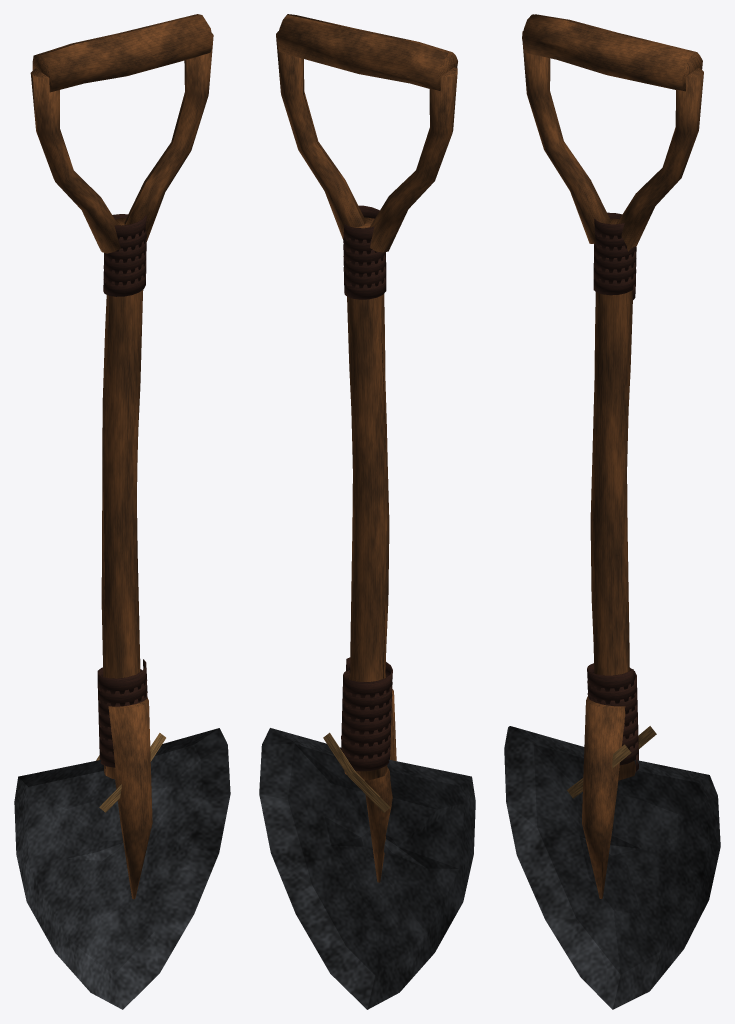
Rendered from stone_shovel_lod1.glb.
The picture shows the model from 3 angles, left to right: view 1: azimuth 30°, elevation 25°; view 2: azimuth 150°, elevation 25°; view 3: azimuth 330°, elevation 25°; orthographic projection.
Visible parts, largest first — view 1: stone_shovel_stone.001, stone_shovel_wood.001, stone_shovel_leather.001; view 2: stone_shovel_stone.001, stone_shovel_wood.001, stone_shovel_leather.001, stone_shovel_fiber.001; view 3: stone_shovel_stone.001, stone_shovel_wood.001, stone_shovel_leather.001, stone_shovel_fiber.001.
Part boxes in pixels (bbox=[...]): stone_shovel_stone.001: bbox=[14, 728, 230, 1009]; stone_shovel_wood.001: bbox=[30, 14, 213, 899]; stone_shovel_leather.001: bbox=[97, 214, 147, 767]; stone_shovel_stone.001: bbox=[259, 728, 475, 1009]; stone_shovel_wood.001: bbox=[276, 14, 457, 882]; stone_shovel_leather.001: bbox=[341, 205, 392, 771]; stone_shovel_fiber.001: bbox=[323, 732, 390, 812]; stone_shovel_stone.001: bbox=[504, 726, 720, 1009]; stone_shovel_wood.001: bbox=[522, 14, 703, 898]; stone_shovel_leather.001: bbox=[587, 212, 638, 771]; stone_shovel_fiber.001: bbox=[567, 726, 656, 798].
Bounding box in the file's own units: 0.2762 × 1.19 × 0.0844.
Materials: 4 (4 with a texture image).
